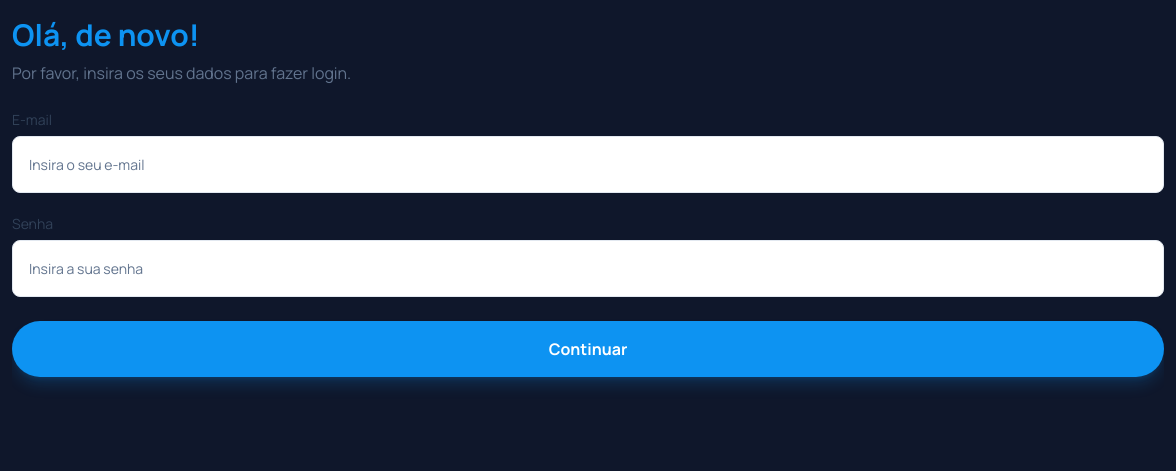
Test: LoginForm › deve exibir global error se a requisição falhar
Type "teste@email.com" into the field with placeholder "Insira o seu e-mail" at (588, 164), box [12,136,1164,193]
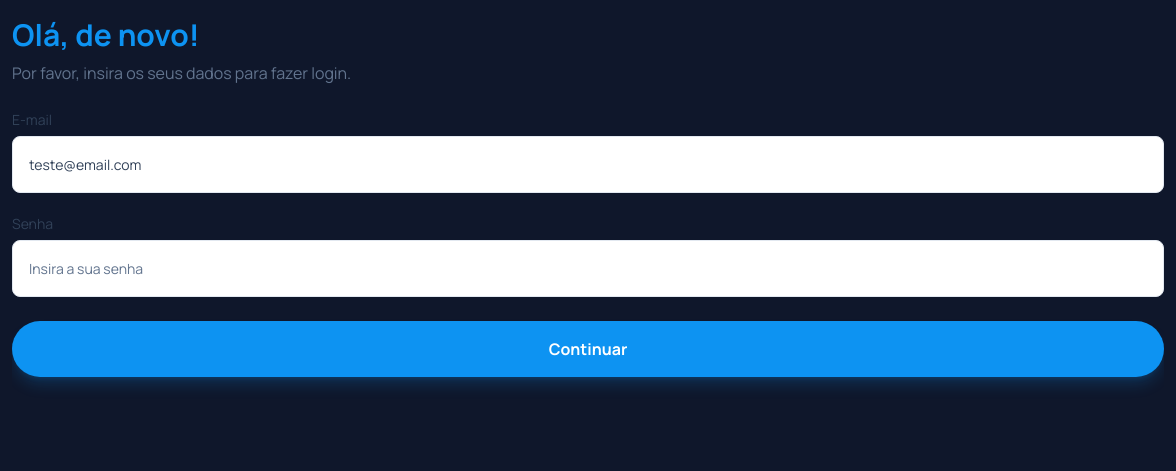
Type "123456" into the password field with placeholder "Insira a sua senha" at (588, 268), box [12,240,1164,297]
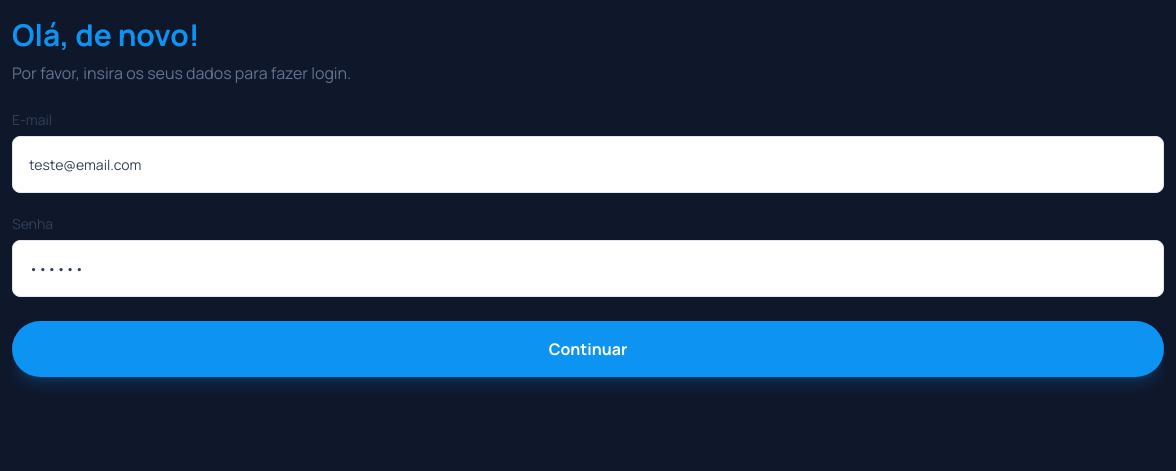
Click the button "Continuar" at (588, 349), box [12,321,1164,377]
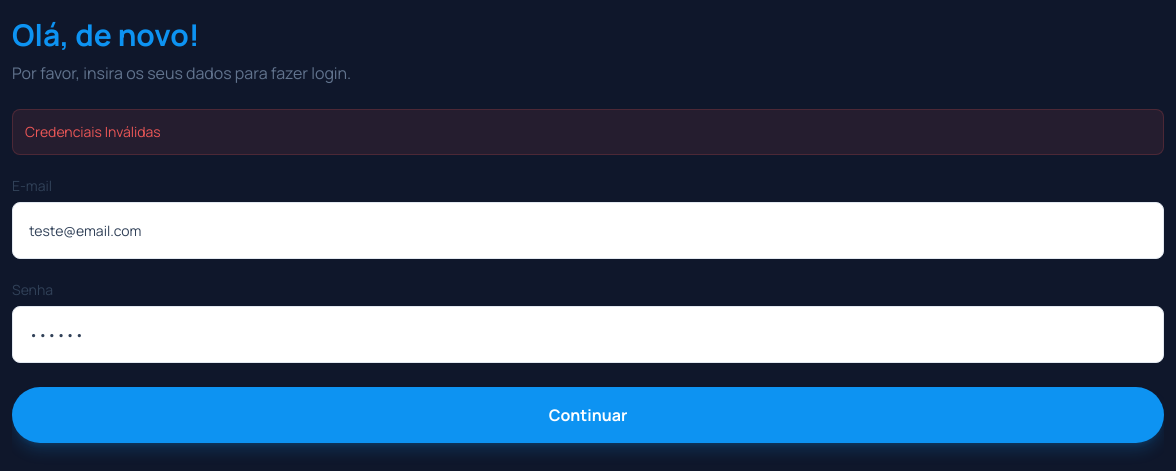
expect the text "Credenciais Inválidas" is shown: met, box [12,109,1164,155]
